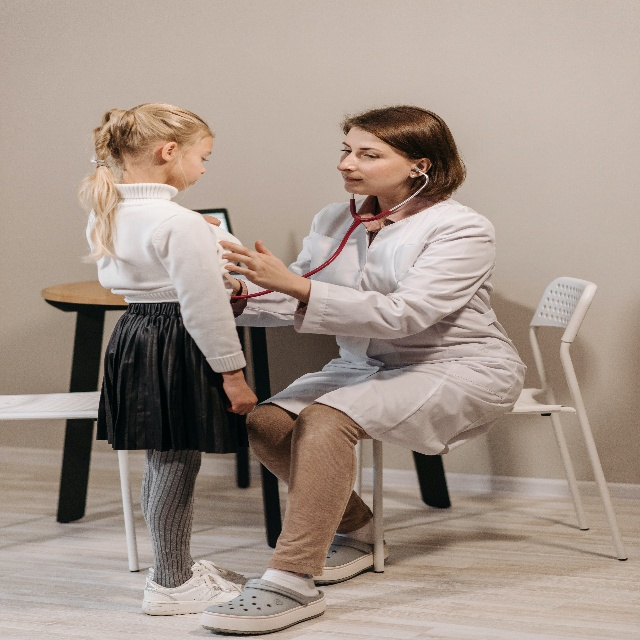Sin_guantes: (217, 240, 293, 293), (222, 379, 257, 414)
